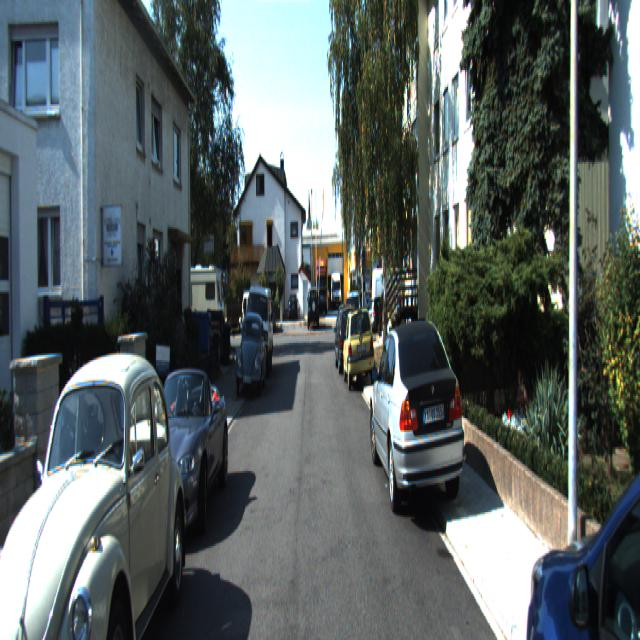Car: (0, 342, 196, 639), (521, 321, 639, 638), (369, 313, 472, 523), (123, 361, 233, 554), (160, 263, 234, 355), (372, 266, 421, 330), (233, 308, 269, 392), (244, 281, 274, 376), (342, 305, 374, 388), (334, 305, 362, 374), (307, 286, 320, 328)
